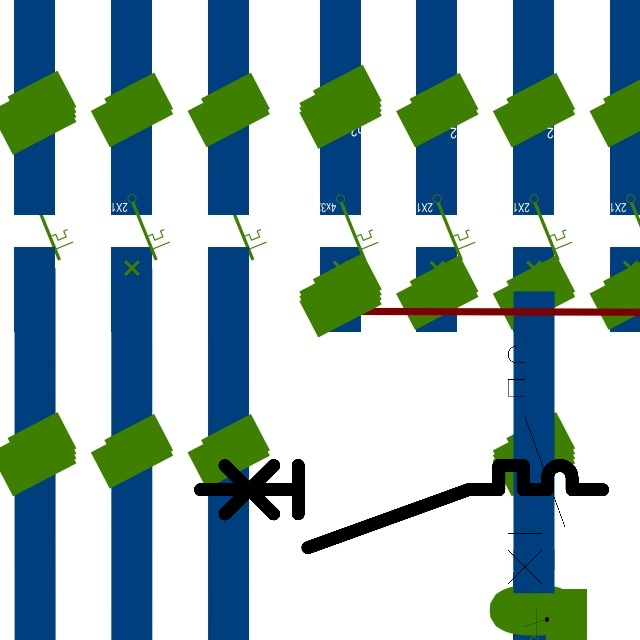interruptor_termomagnetico: (190, 455, 613, 558), (501, 318, 571, 607)
